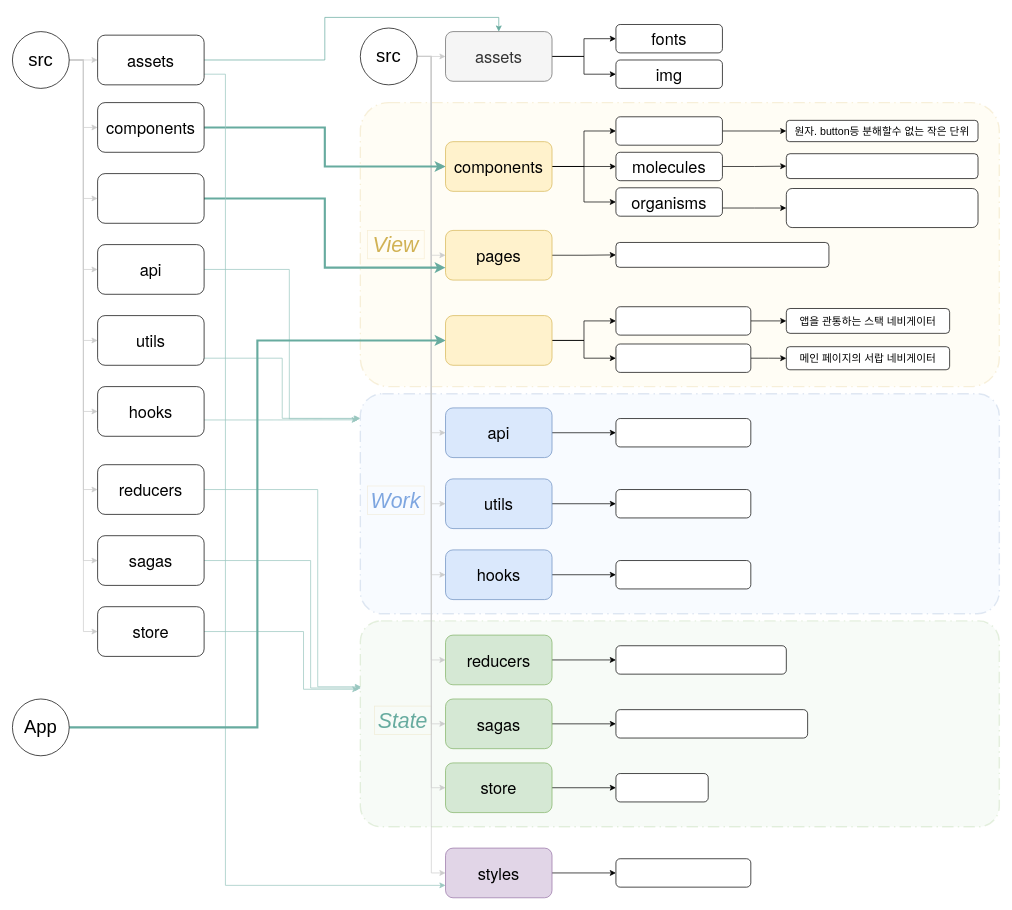
Image size: 1012x910. Some labels were removed from this diagram. Here are the shapes that lost their labels. From the top down, the centre of each, then its label:
At [668,130]: "atoms".
At [882,166]: "분자. 작은 단위의 기능을 수행하는 조각".
At [150,198]: "container".
At [882,208]: "유기체. 완결성 있는 형태를 갖기 시작하지만 여전히 독립적이고 재사용 가능하다.".
At [722,254]: "화면을 구성하는 페이지로 앱 종속성이 높다.".
At [498,340]: "navigations".
At [683,320]: "AppNavigator".
At [683,357]: "MainNavigator".
At [683,432]: "apis".
At [683,503]: "Utility functions".
At [683,574]: "Custom hooks".
At [700,659]: "액션을 생성하고 state를 갱신한다".
At [711,723]: "액션을 캐치하고 비동기요청을 수행한다".
At [661,787]: "state 저장소".
At [683,872]: "CommonStyles".
